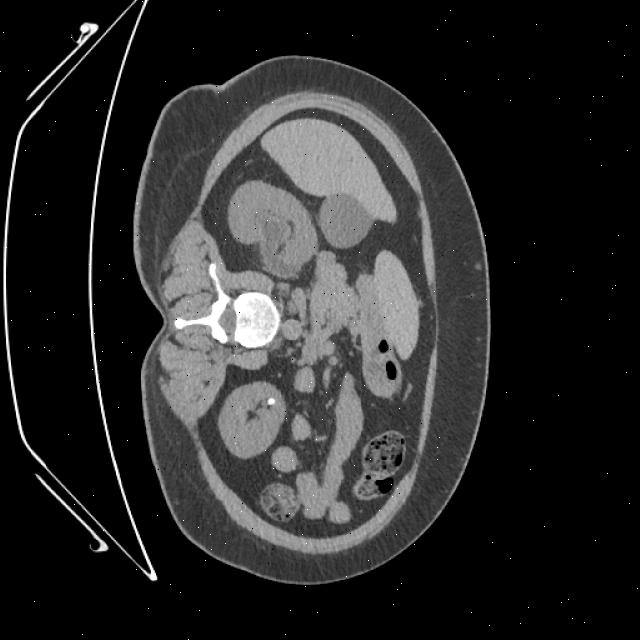kidneystone: (266, 398, 275, 405)
